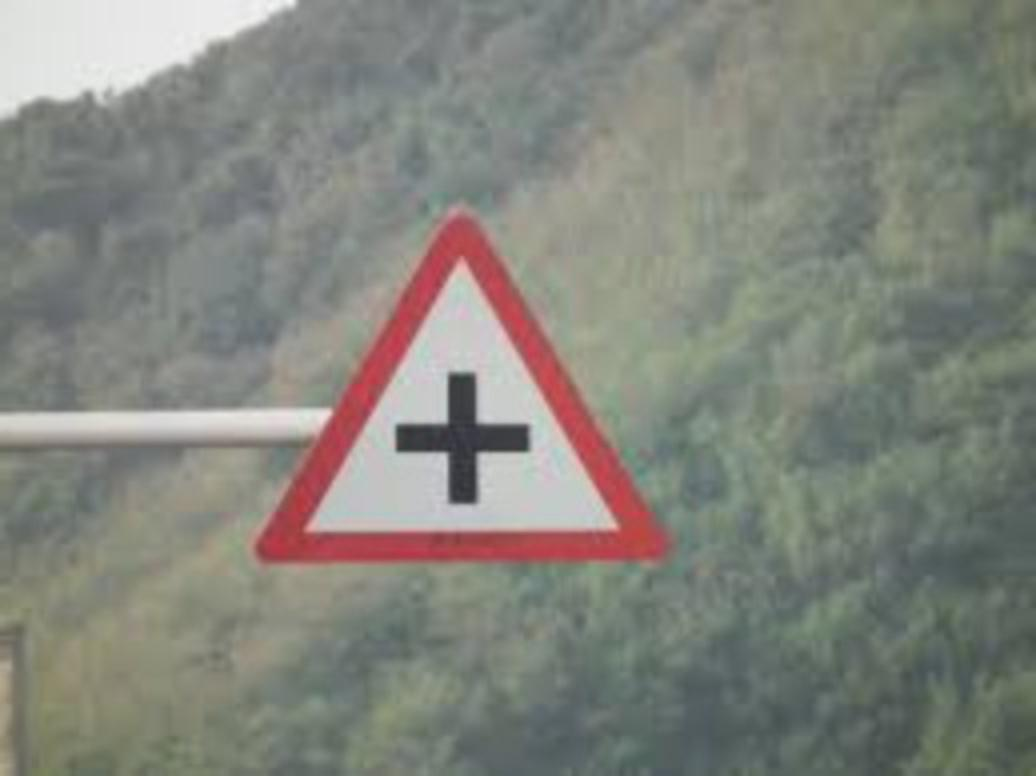fork_road: (250, 204, 674, 563)
